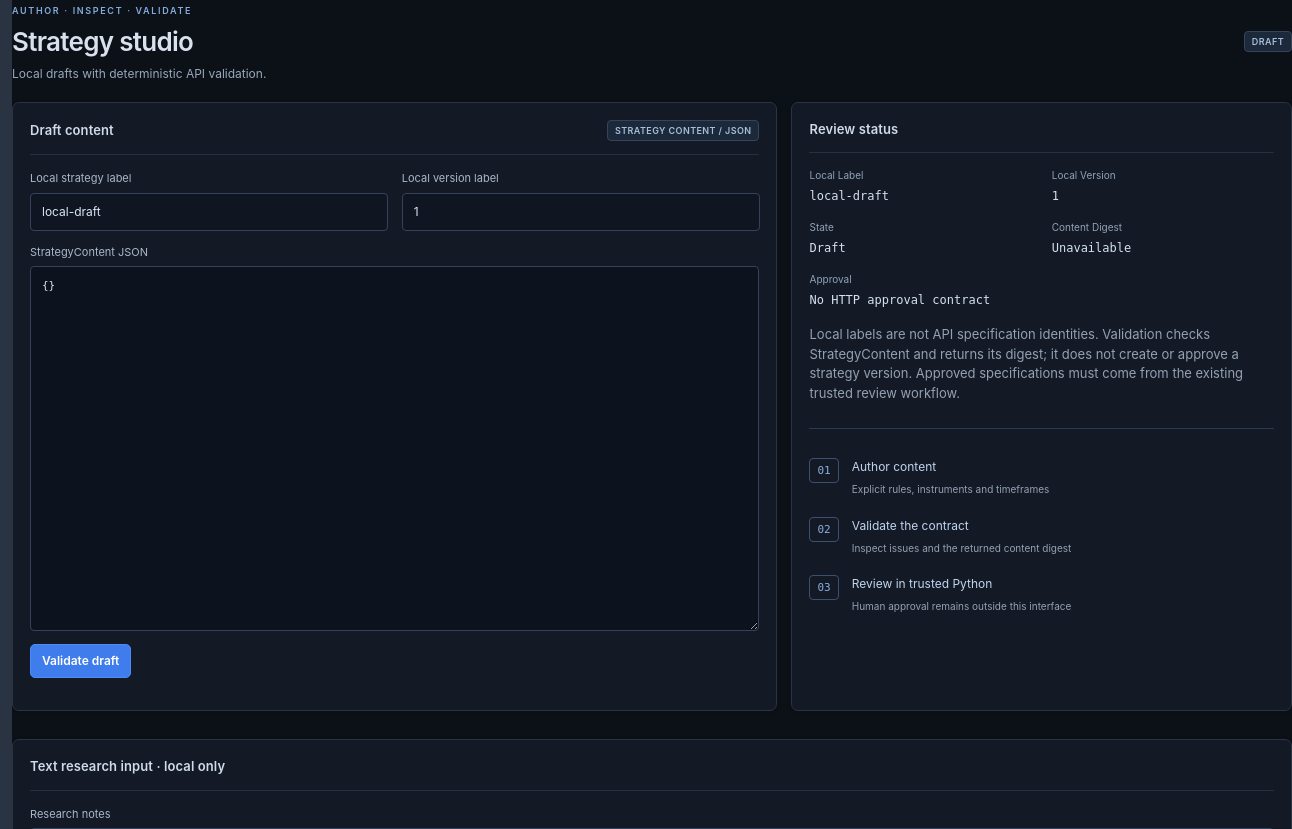
research lifecycle and strategy validation › shows validation issues from the supported API
Click the button "Validate draft".
click(81, 661)  # box [30,644,131,678]
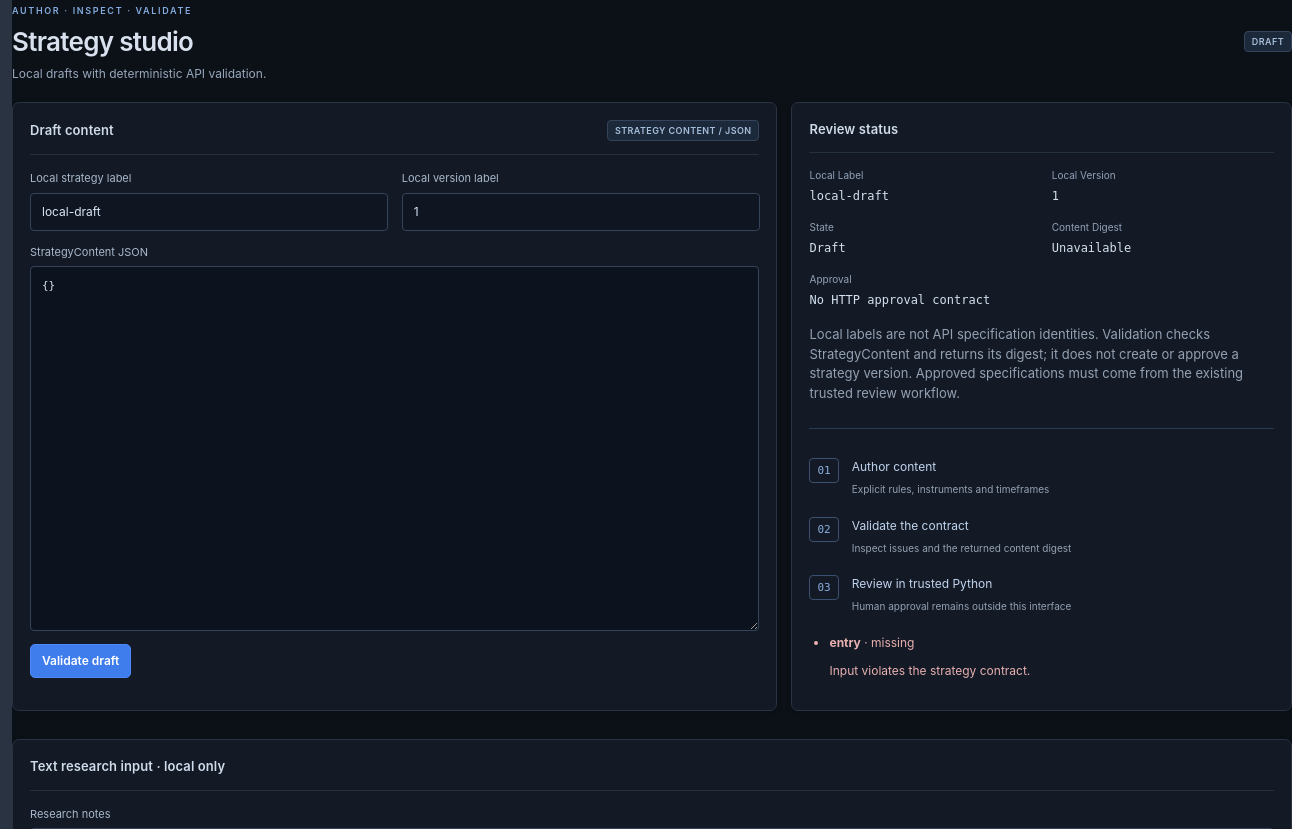
Check: the text "Input violates the strategy contract." is shown, box [830,663,1030,678]
